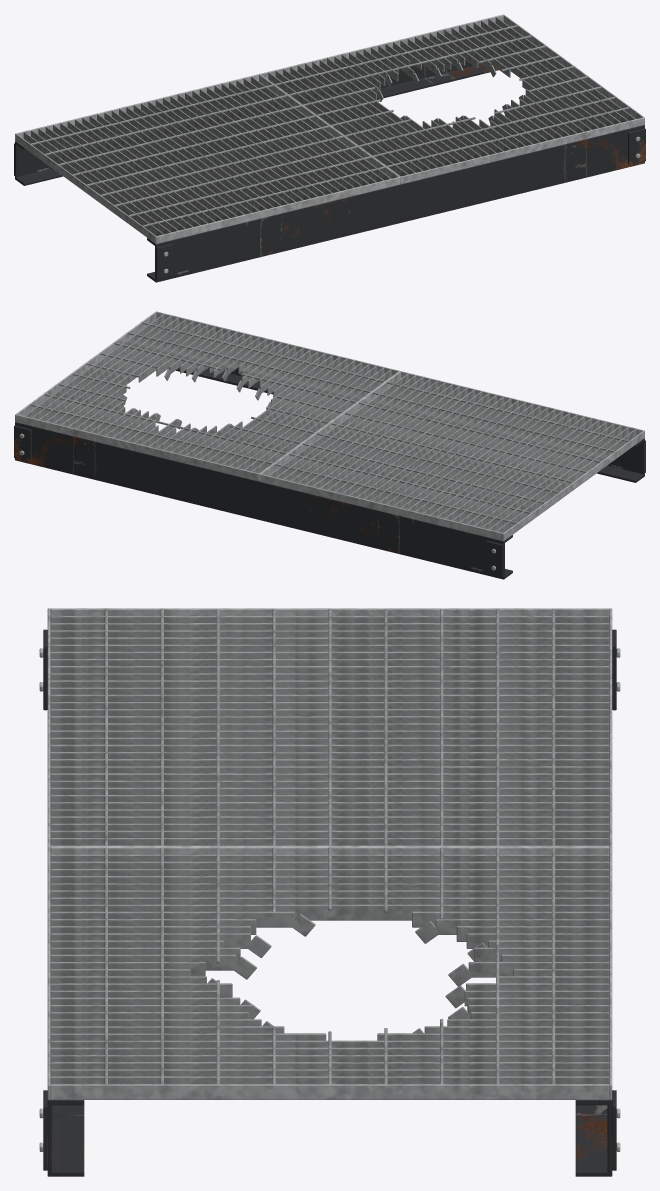
Rendered from SM_IK_Catwalk_200_Damaged.fbx.
3 renders of one model, top to bottom at view 1: azimuth 30°, elevation 25°; view 2: azimuth 150°, elevation 25°; view 3: azimuth 270°, elevation 25°, orthographic. The views are drawn at different scales.
Parts seen in each view (by area): view 1: SM_IK_Catwalk_200_Damaged; view 2: SM_IK_Catwalk_200_Damaged; view 3: SM_IK_Catwalk_200_Damaged.
Part boxes in pixels (<box>): SM_IK_Catwalk_200_Damaged: <box>14,14,645,282</box>; SM_IK_Catwalk_200_Damaged: <box>14,311,645,579</box>; SM_IK_Catwalk_200_Damaged: <box>39,608,620,1176</box>.
Size of what is drawn, in the model's own units: 200 by 103 by 18.05.
